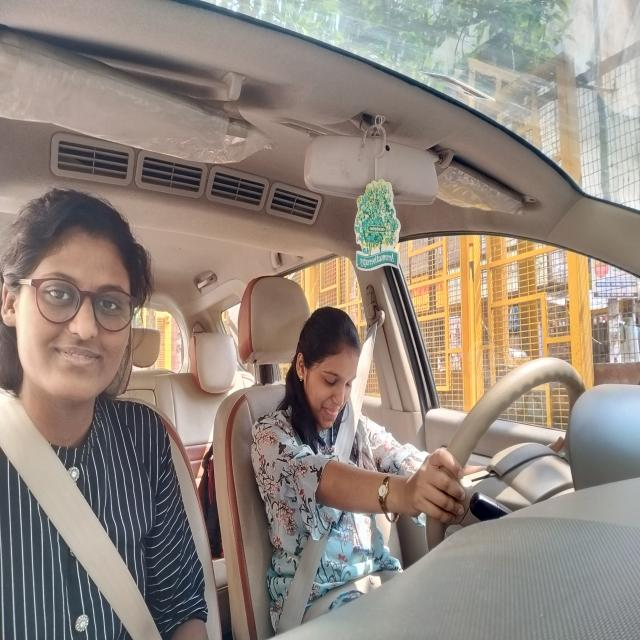drowsy: (291, 308, 362, 424)
person: (9, 194, 139, 413)
